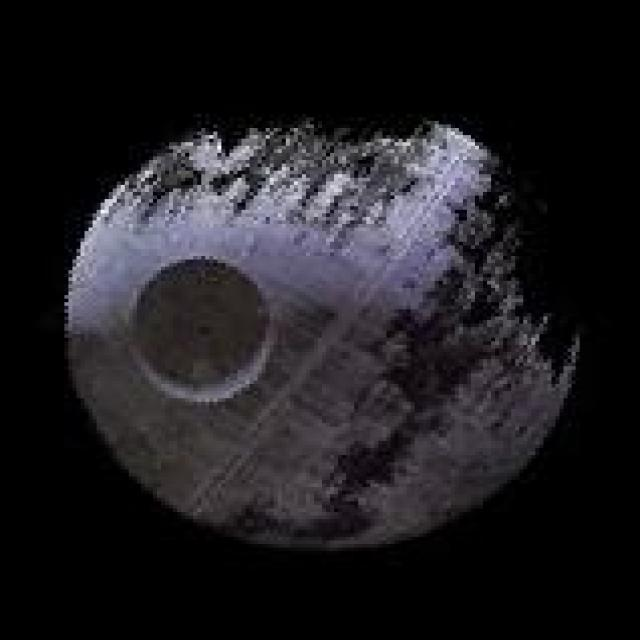Death Star: (52, 106, 588, 554)
